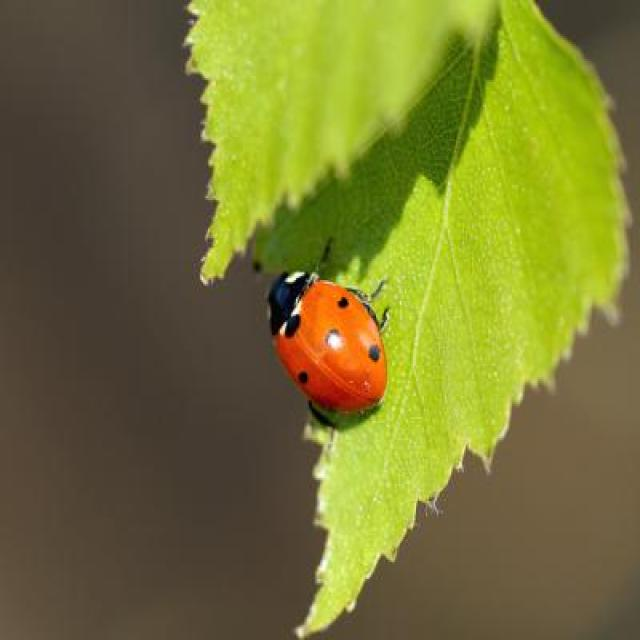body: (272, 268, 388, 415)
insect: (269, 234, 397, 429)
legs: (317, 234, 399, 330)
wings: (277, 280, 384, 411)
